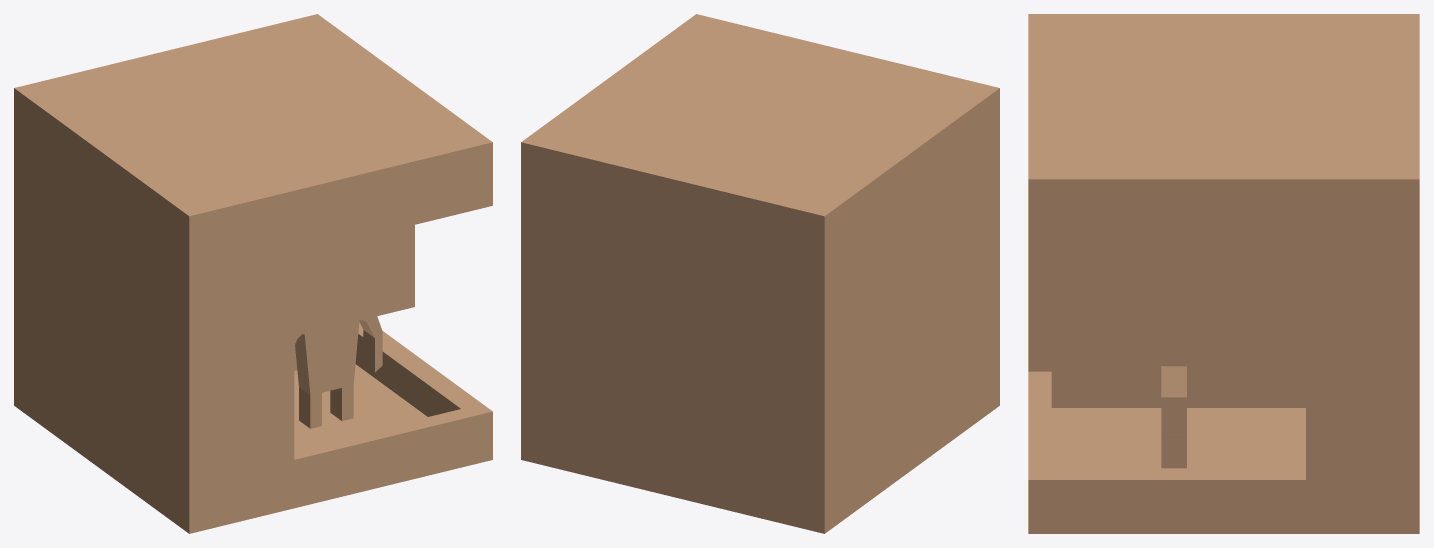
The model's file is funkPop011.fbx.
3 views of the same model, side by side, from view 1: azimuth 30°, elevation 25°; view 2: azimuth 150°, elevation 25°; view 3: azimuth 270°, elevation 25° (orthographic). The views are drawn at different scales.
Parts seen in each view (by area): view 1: funkPop11; view 2: funkPop11; view 3: funkPop11.
Boxes of the visible parts, x1,y1,x2,y2 form: funkPop11: [14, 14, 492, 533]; funkPop11: [521, 14, 999, 533]; funkPop11: [1028, 14, 1419, 533].
Size of the model in its own units: 0.3286 by 0.3286 by 0.3286.
